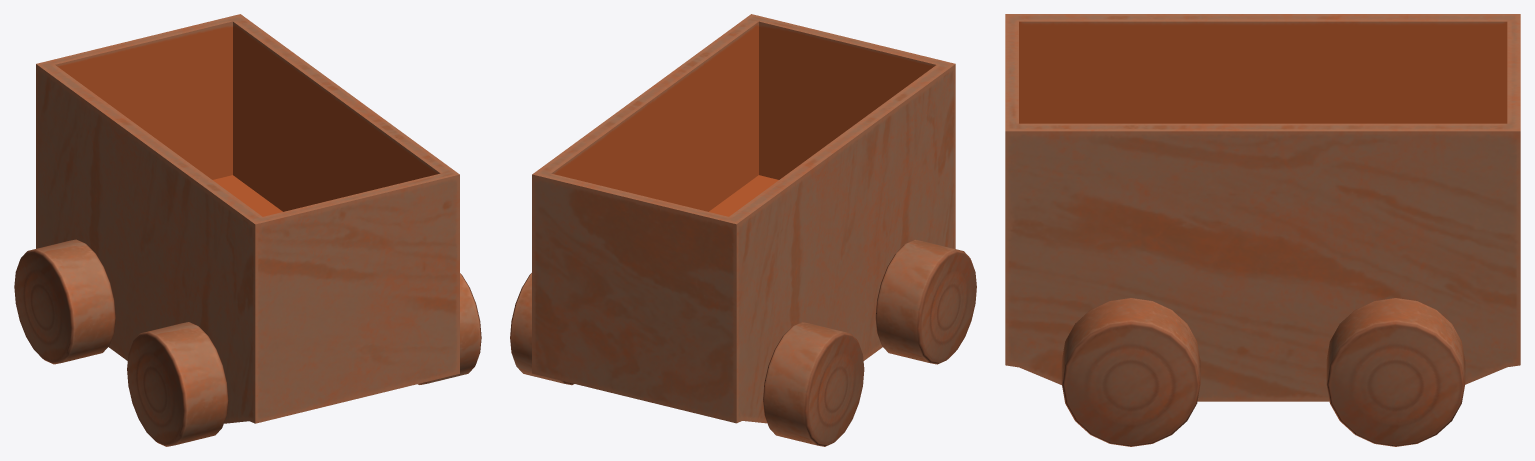
File: Train_Storage_Anim.fbx
3 views of the same model, side by side, from view 1: azimuth 30°, elevation 25°; view 2: azimuth 150°, elevation 25°; view 3: azimuth 270°, elevation 25° (orthographic). The views are drawn at different scales.
Visible parts, largest first — view 1: Storage_low, Wheel_low6, Wheel_low7, Wheel_low4; view 2: Storage_low, Wheel_low6, Wheel_low7, Wheel_low5; view 3: Storage_low, Wheel_low5, Wheel_low4.
Part boxes in pixels (x1,y1,x2,y2): Storage_low: (36,14,459,423); Wheel_low6: (14,239,115,364); Wheel_low7: (127,322,228,446); Wheel_low4: (418,273,481,384); Storage_low: (532,14,955,423); Wheel_low6: (763,322,864,446); Wheel_low7: (875,239,976,364); Wheel_low5: (510,273,573,385); Storage_low: (1005,14,1520,401); Wheel_low5: (1326,298,1465,446); Wheel_low4: (1061,298,1200,446).
Bounding box in the file's own units: 306 × 242 × 390.
